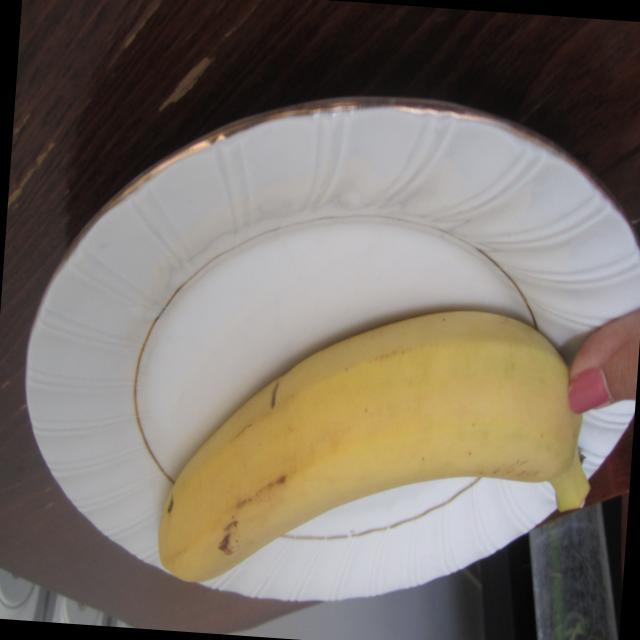Banana: (129, 276, 602, 616)
Finger: (562, 293, 640, 431)
